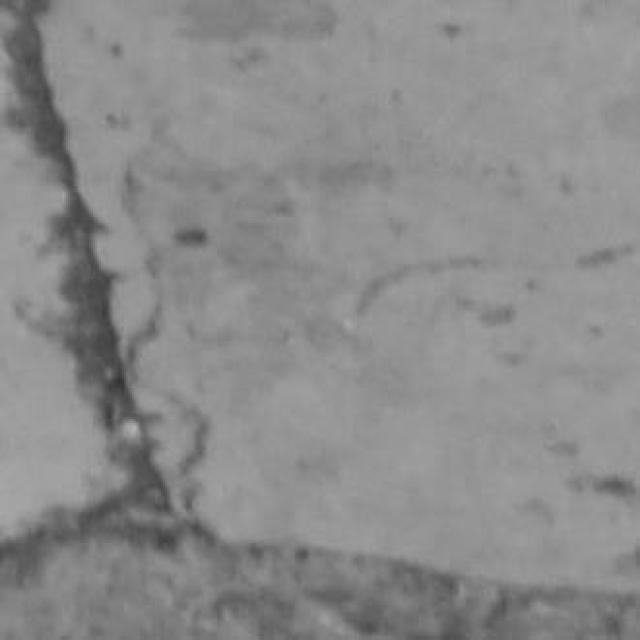crack: (0, 0, 170, 510)
